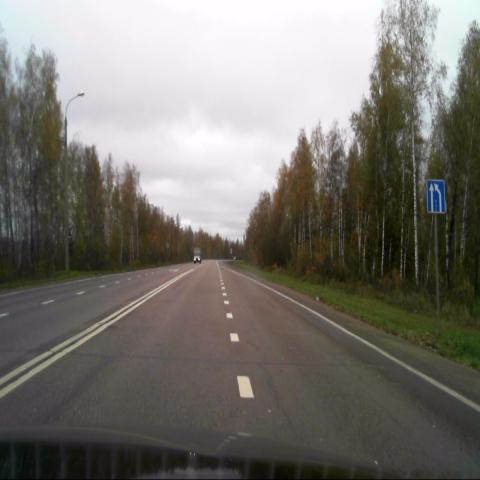5_15_5: (426, 180, 446, 214)
